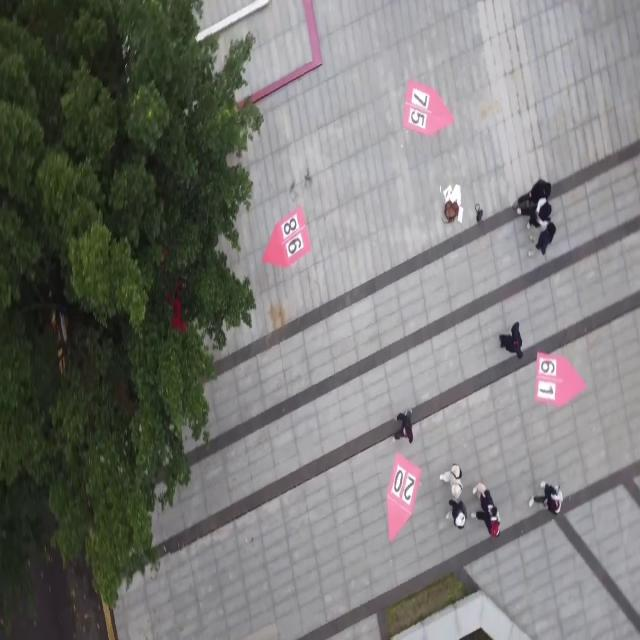-sign-: (261, 204, 312, 268), (387, 452, 422, 542), (536, 352, 588, 409), (404, 80, 456, 136)
